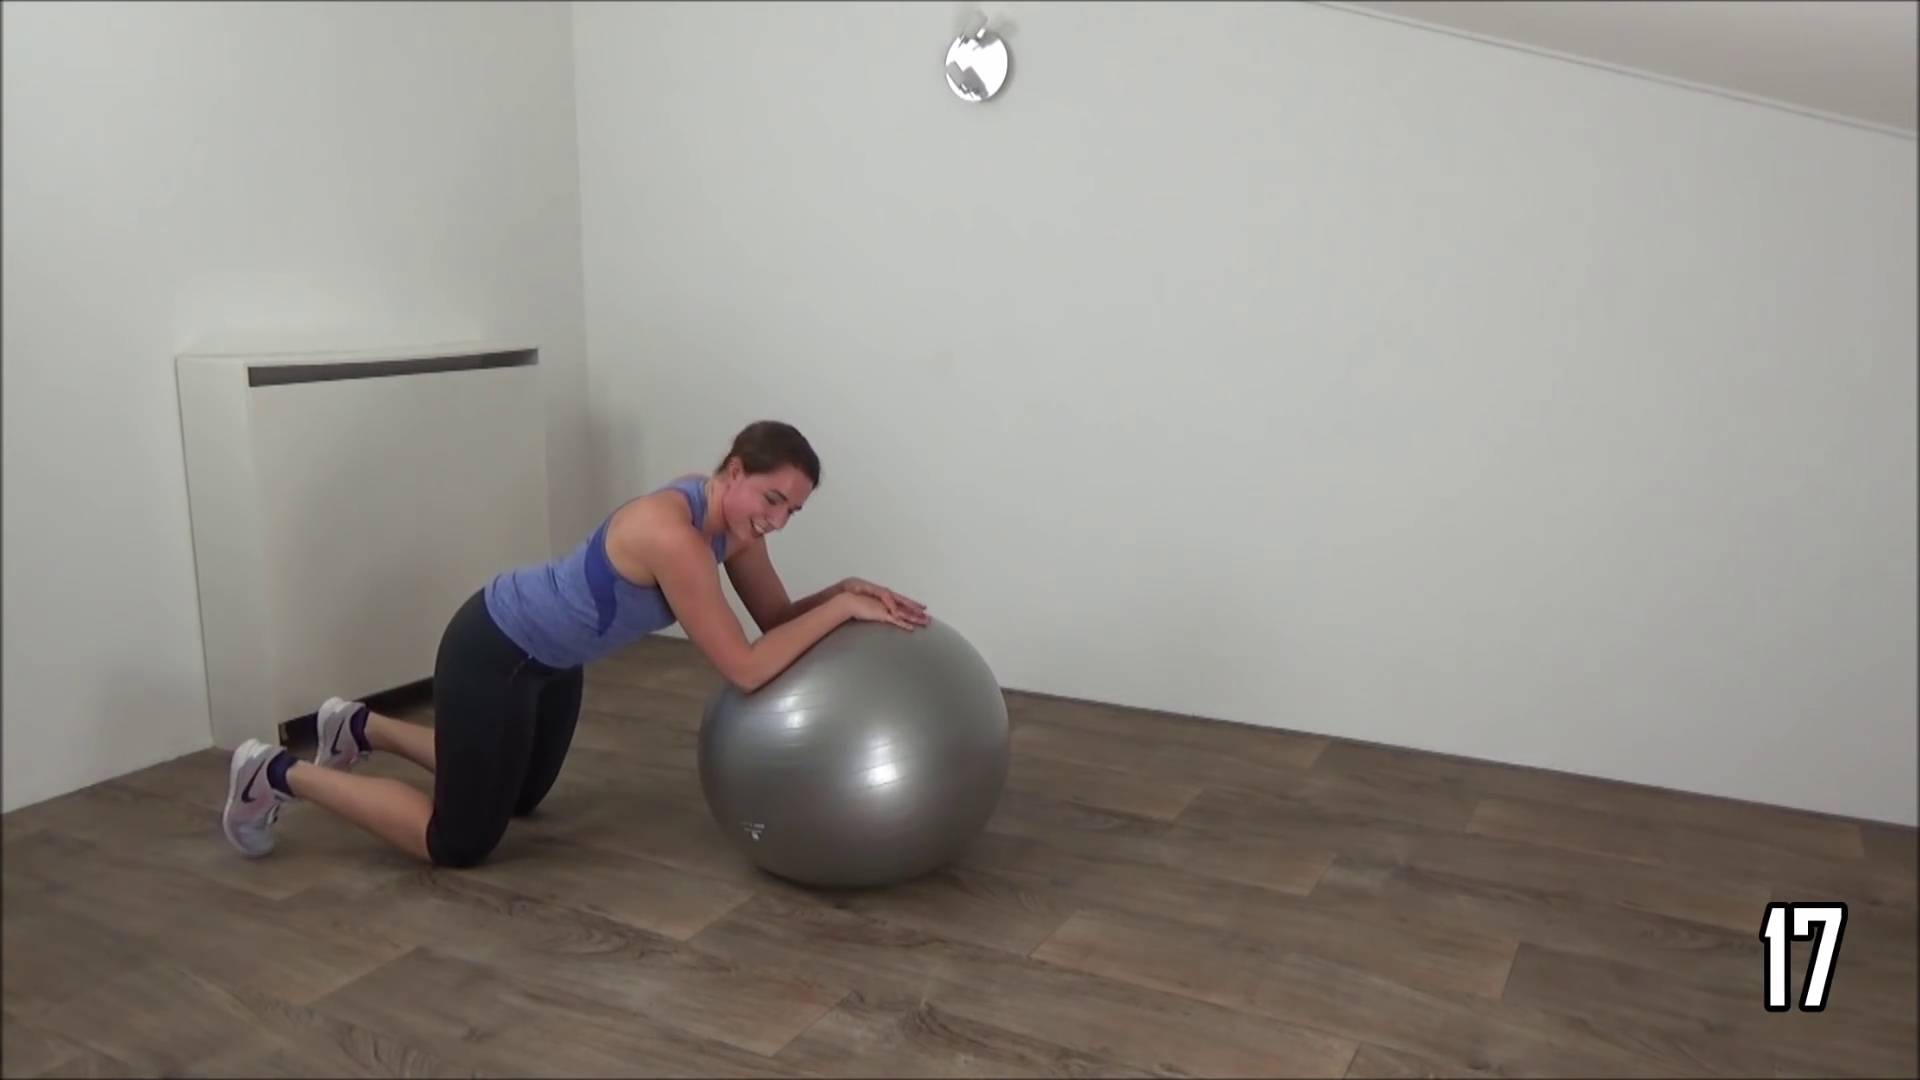yogaball: (678, 592, 1038, 909)
